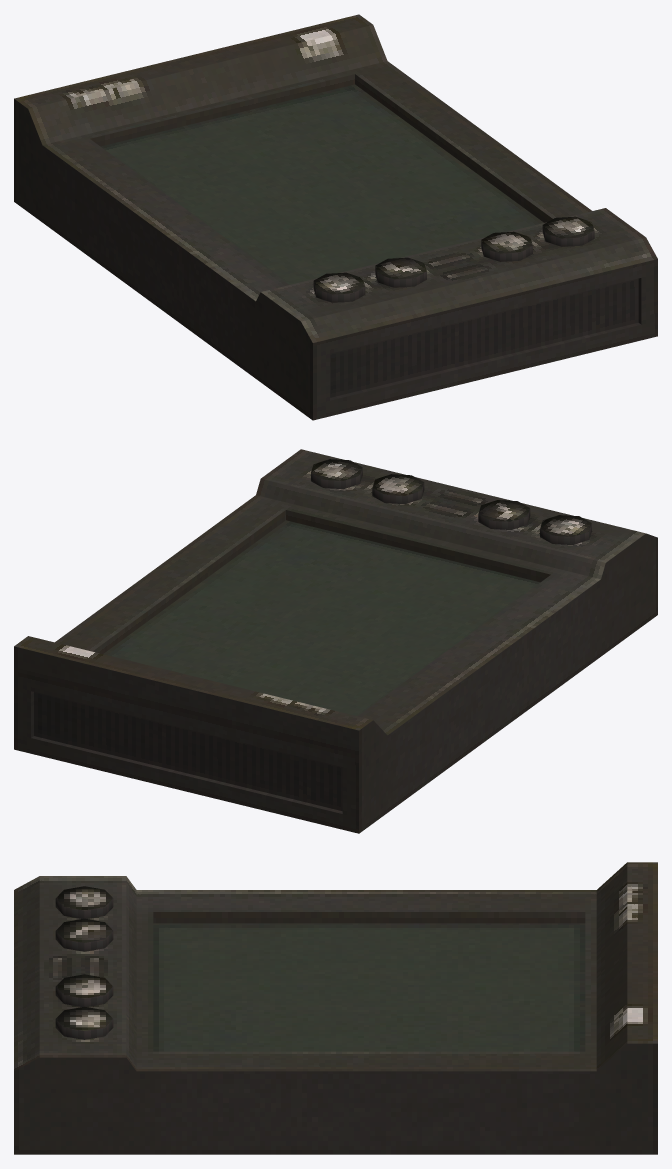
The model's file is handheld_tablet_1.glb.
3 renders of one model, top to bottom at view 1: azimuth 30°, elevation 25°; view 2: azimuth 150°, elevation 25°; view 3: azimuth 270°, elevation 25°, orthographic. The views are drawn at different scales.
Parts seen in each view (by area): view 1: handheld_tablet_1; view 2: handheld_tablet_1; view 3: handheld_tablet_1.
Part boxes in pixels (box(x1,y1,x2,y2)): handheld_tablet_1: box(14, 14, 657, 420); handheld_tablet_1: box(14, 449, 657, 833); handheld_tablet_1: box(14, 862, 657, 1154).
Size of the model in its own units: 0.14 by 0.04 by 0.21.
Materials: 1 (1 with a texture image).
